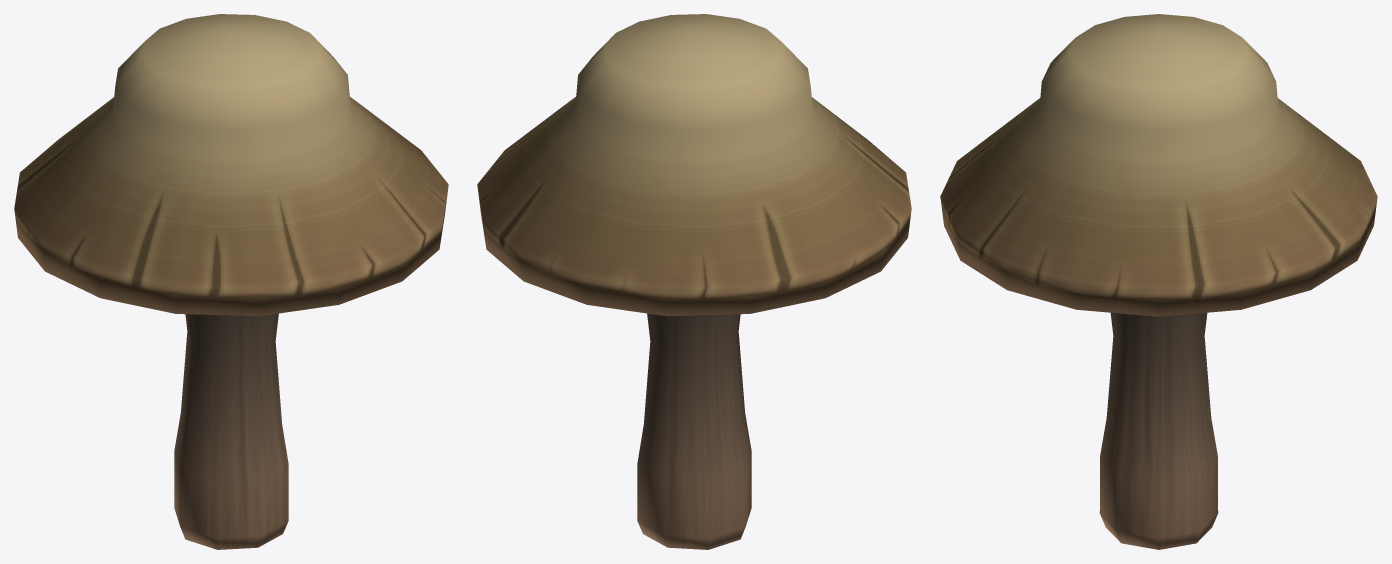
Rendered from ENV1410004.FBX.
3 views of the same model, side by side, from view 1: azimuth 30°, elevation 25°; view 2: azimuth 150°, elevation 25°; view 3: azimuth 270°, elevation 25° (orthographic).
Visible parts, largest first — view 1: smENV1410004; view 2: smENV1410004; view 3: smENV1410004.
Part boxes in pixels (x1,y1,x2,y2): smENV1410004: (14,14,448,549); smENV1410004: (477,14,911,549); smENV1410004: (940,14,1377,549).
Bounding box in the file's own units: 9.78 × 12.31 × 9.78.
1 material, 1 textured.
